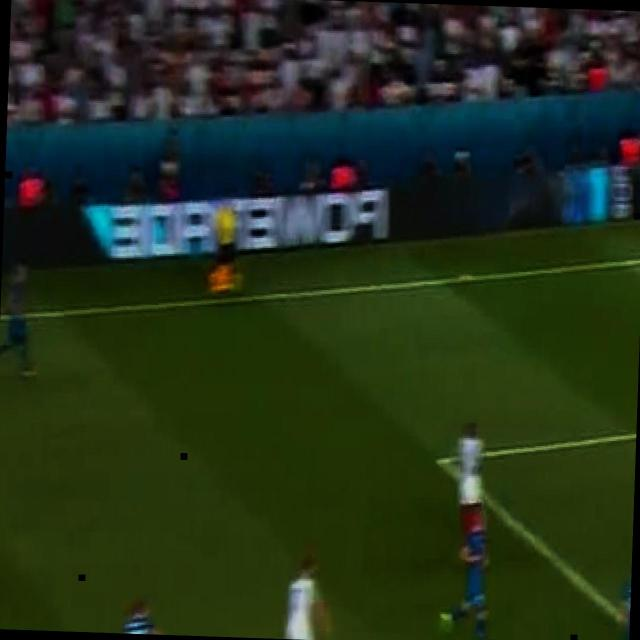player-white: (440, 509, 502, 640), (455, 417, 491, 560), (0, 259, 40, 377), (281, 556, 337, 640), (212, 192, 242, 301), (125, 597, 167, 635)
